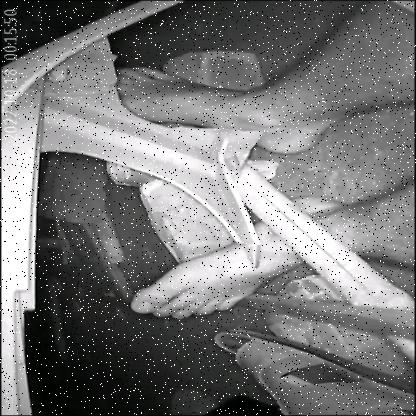leg: (112, 1, 416, 164), (115, 172, 416, 326)
